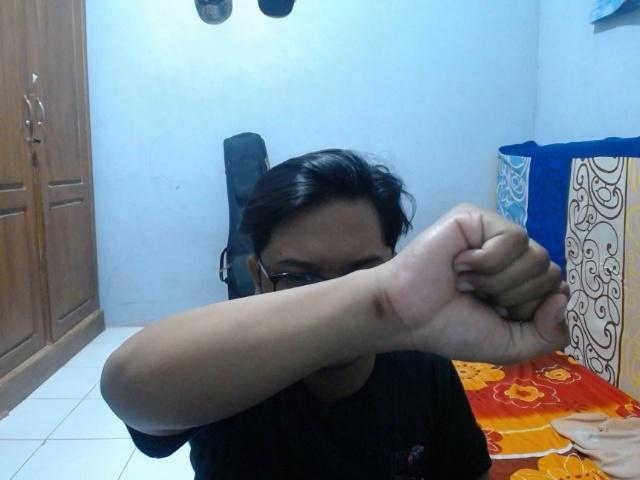Grab: (370, 194, 576, 372)
